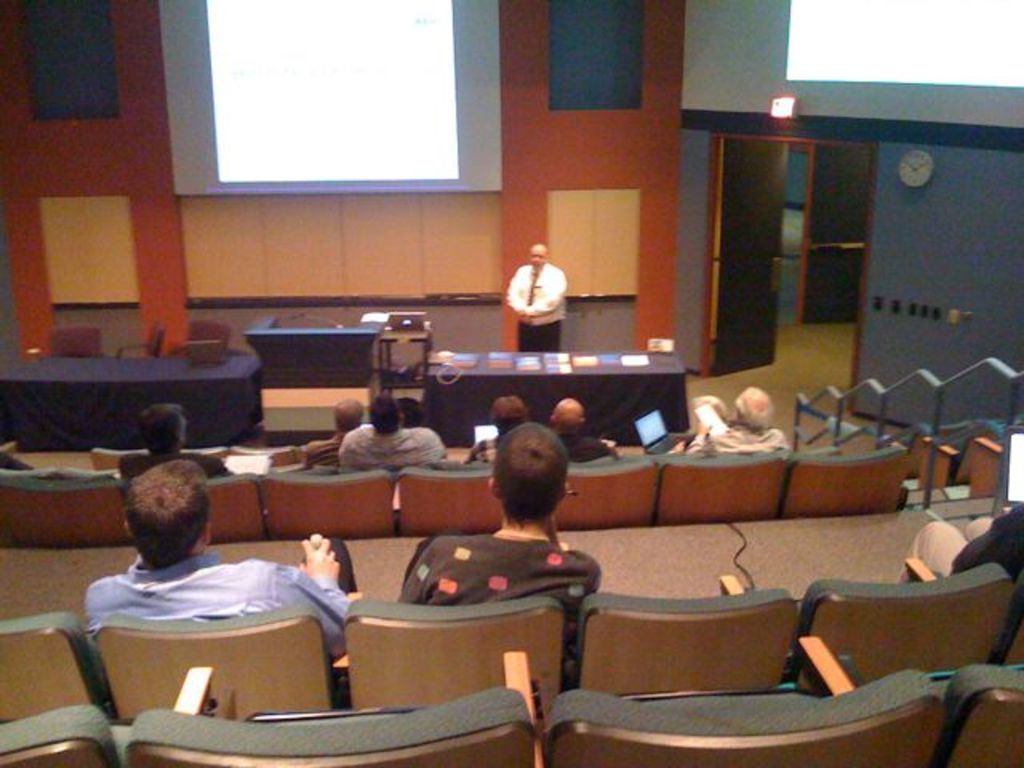Table: (406, 341, 683, 442), (0, 354, 258, 454), (246, 306, 413, 389)
